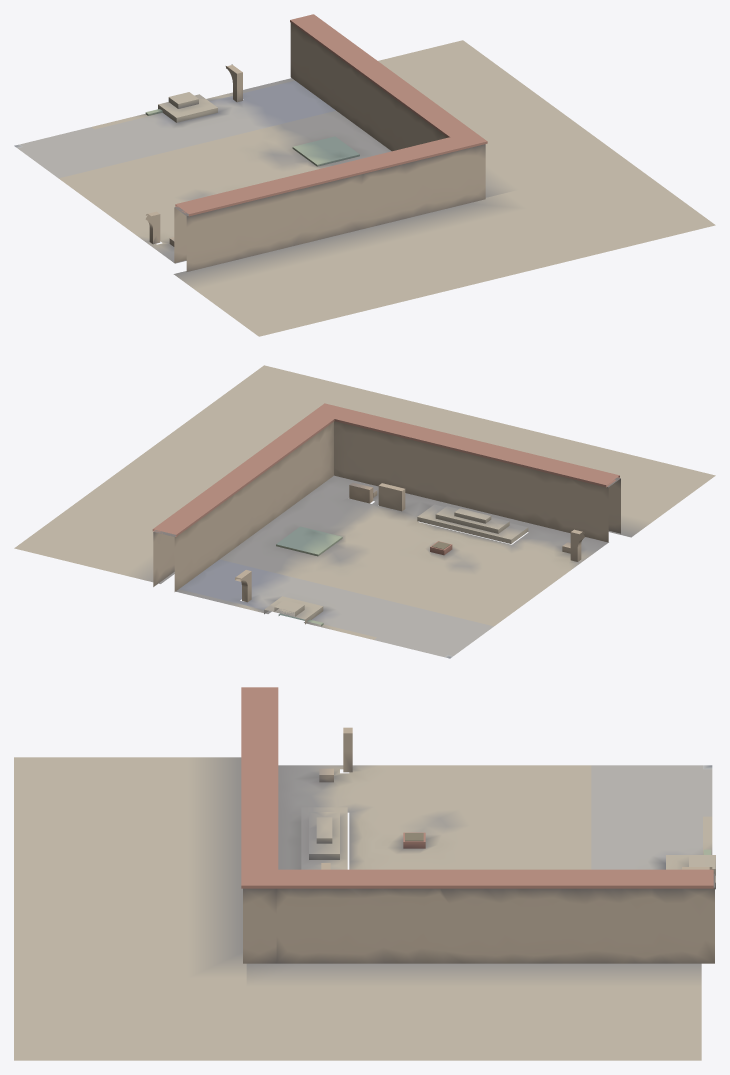
3 views of the same model, one above another, from view 1: azimuth 30°, elevation 25°; view 2: azimuth 150°, elevation 25°; view 3: azimuth 270°, elevation 25° (orthographic). The views are drawn at different scales.
Parts seen in each view (by area): view 1: t; view 2: t; view 3: t.
Part boxes in pixels (x1,y1,x2,y2): t: (14, 14, 715, 336); t: (14, 365, 715, 658); t: (14, 687, 715, 1060).
Size of the model in its own units: 77 by 9.35 by 75.38.
